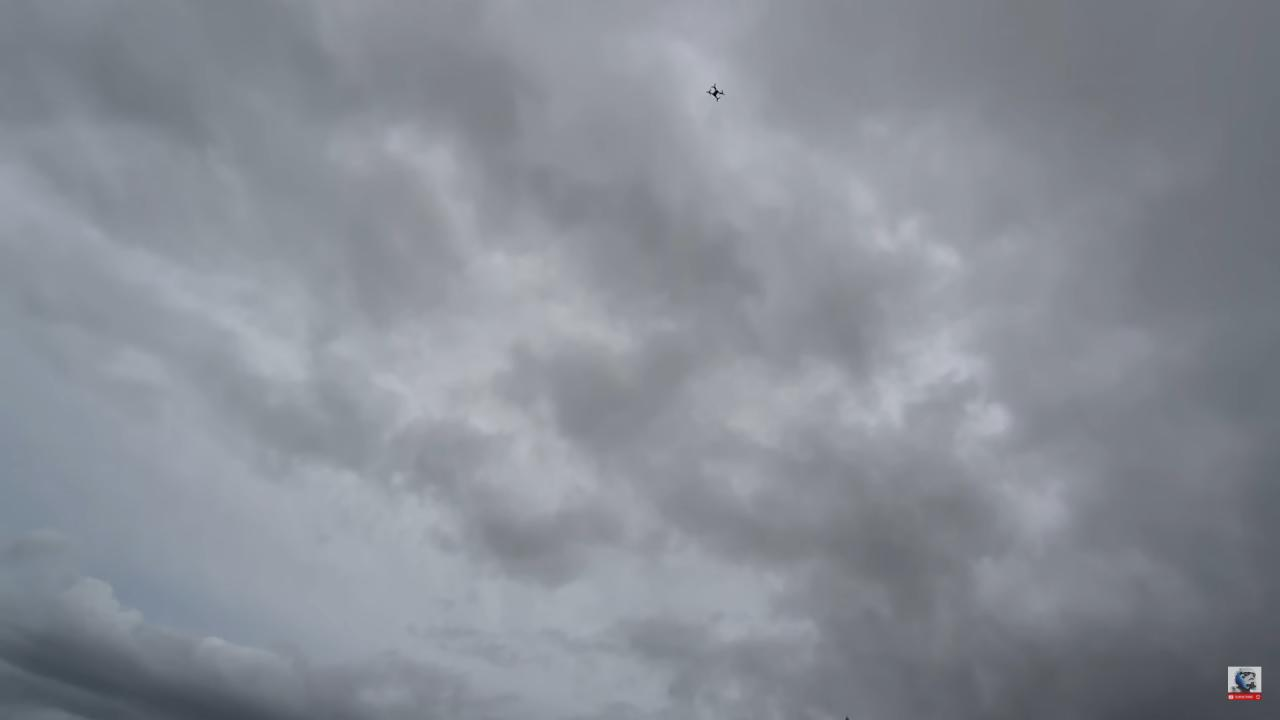Drone: (694, 73, 736, 111)
